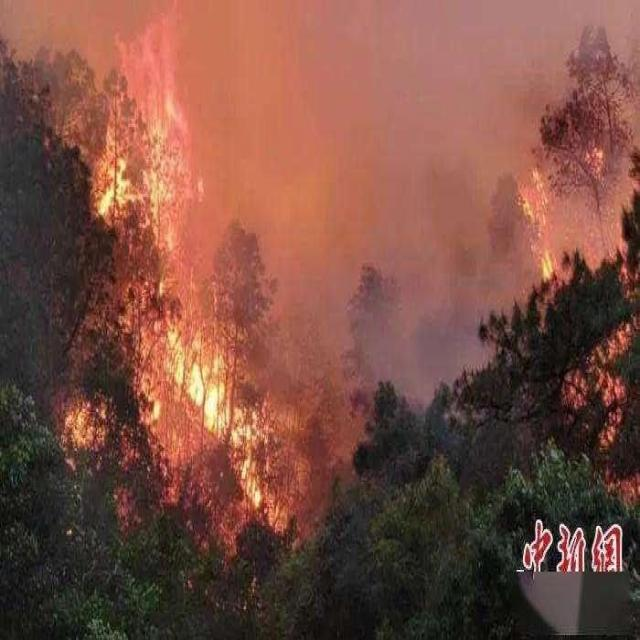fire: (62, 20, 308, 555), (514, 106, 632, 288)
smoke: (324, 27, 511, 190), (215, 29, 338, 200)
